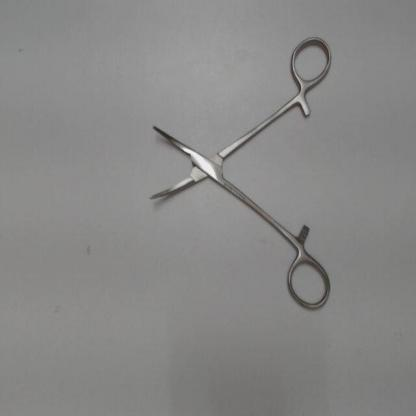Crile Artery Forceps: (138, 31, 336, 318)
